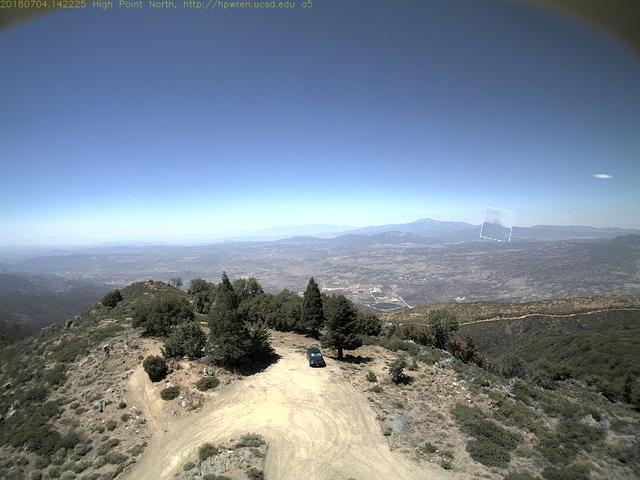smoke: (483, 210, 514, 242)
